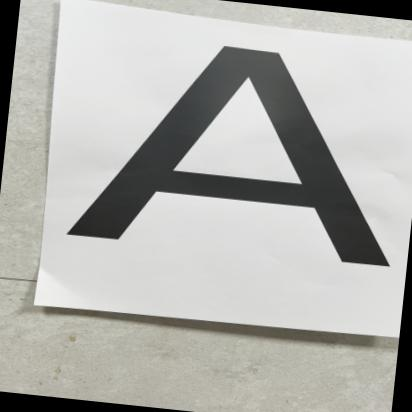seat: (62, 15, 412, 293)
